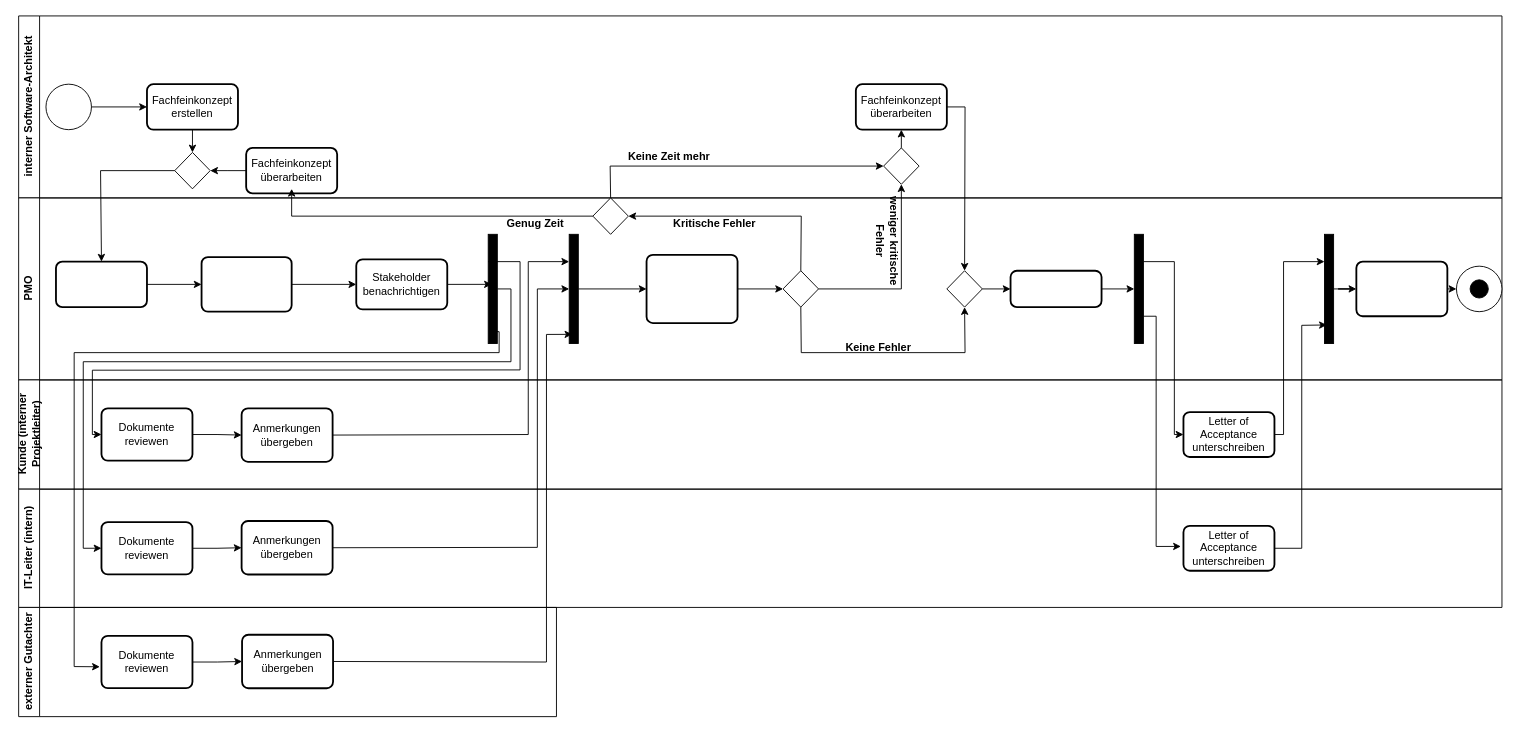
Image size: 1518x733. Some labels were removed from this diagram. Here are the shapes that lost their labels. From the top down, the centre of each, then its label:
(101,284): Fachfeinkonzept aufarbeiten
(246,284): Dokumente auf Share-Point ablegen
(691,288): Reviews aufbereiten & Gesamtbewertung ausführen
(1055,288): Abnahme vorbereiten
(1401,288): Implementierung einleiten
